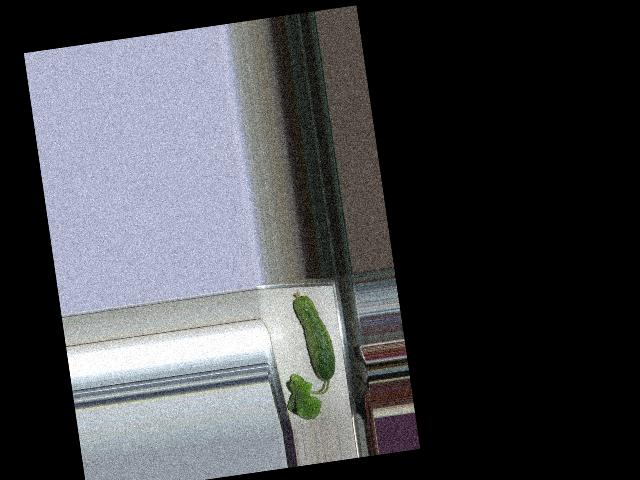cucumber: (291, 287, 338, 384)
